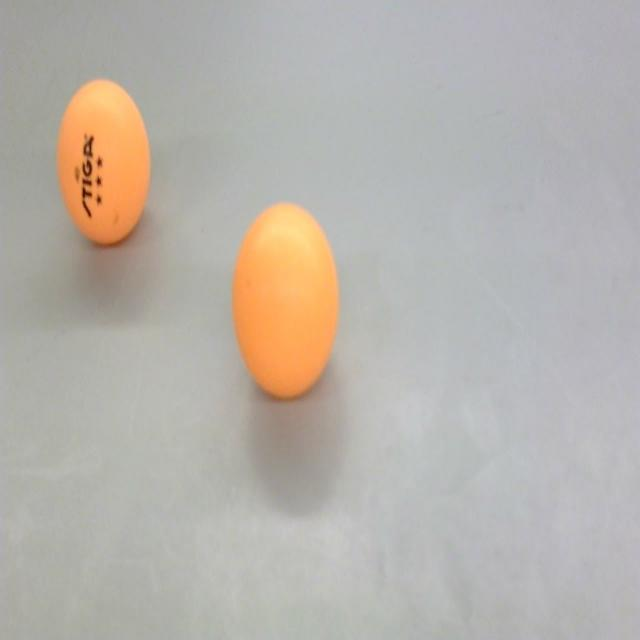ball: (231, 200, 340, 403), (56, 78, 152, 248)
